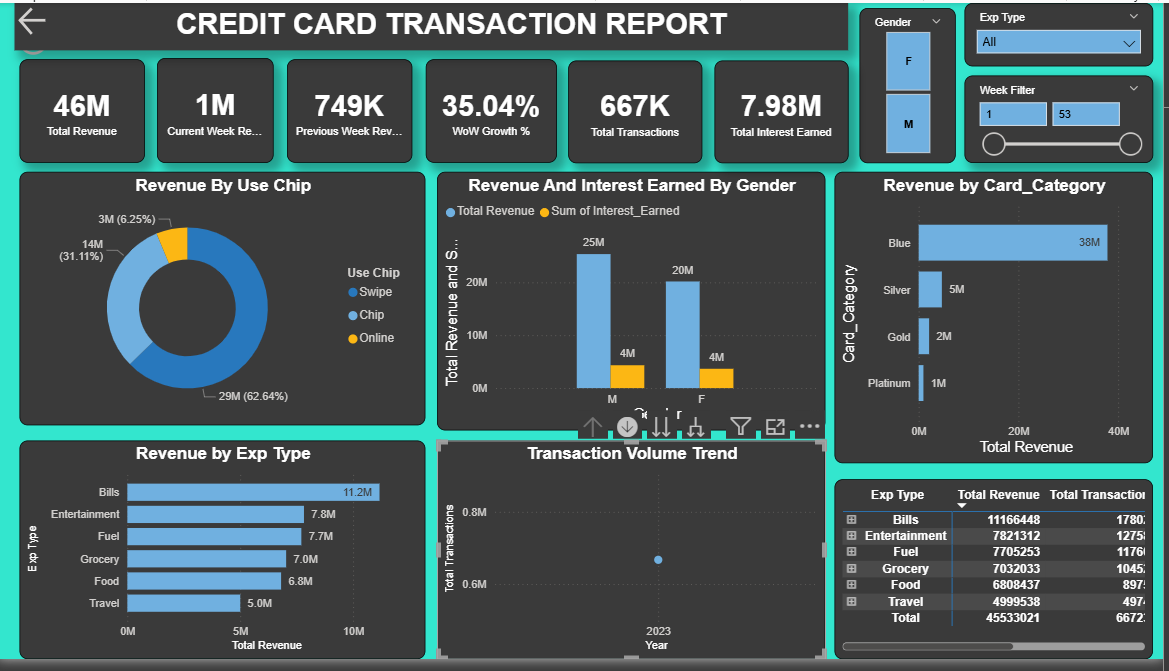

What the dashboard file says about the page in this screenshot:
{"tool":"powerbi","page":{"name":"Transaction report","canvas":[1280,720],"ordinal":1},"visuals":[{"type":"card","fields":{"Values":["CreditCard.Total Revenue"]},"box":[24.7,61.7,137.2,113.9],"z":0},{"type":"card","fields":{"Values":["CreditCard.Current Week Revenue"]},"box":[175.6,60.4,127.6,115.3],"z":1000},{"type":"card","fields":{"Values":["CreditCard.Previous Week Revenue"]},"box":[318.4,61.7,137.2,113.9],"z":2000},{"type":"card","fields":{"Values":["CreditCard.WoW Growth %"]},"box":[470.7,61.7,144.1,113.9],"z":3000},{"type":"slicer","fields":{"Values":["CreditCard.Week_Start_Date"]},"box":[1062.1,63.1,207.2,122.1],"z":5000},{"type":"card","fields":{"Values":["CreditCard.Total Transactions"]},"box":[627.1,63.1,146.8,112.5],"z":6000},{"type":"actionButton","box":[18.5,20,51.3,41.3],"z":7000},{"type":"textbox","box":[19.2,0,915.3,52.1],"z":9000},{"type":"actionButton","box":[18.5,0,51.3,39.9],"z":10000},{"type":"clusteredBarChart","title":"Revenue by Exp Type","fields":{"Category":["CreditCard.Exp Type"],"Y":["CreditCard.Total Revenue"]},"box":[24.7,480.3,446,240.1],"z":11000},{"type":"clusteredColumnChart","title":" Revenue And Interest Earned By Gender","fields":{"Y":["CreditCard.Total Revenue","Sum(CreditCard.Interest_Earned)"],"Category":["customer.Gender"]},"box":[483,185.2,426.8,284],"z":12000},{"type":"lineChart","title":"Transaction Volume Trend","fields":{"Y":["CreditCard.Total Transactions"],"Category":["CreditCard.Week_Start_Date.Variation.Date Hierarchy.Year","CreditCard.Week_Start_Date.Variation.Date Hierarchy.Quarter","CreditCard.Week_Start_Date.Variation.Date Hierarchy.Month","CreditCard.Week Num"]},"box":[483,480.3,426.8,240.1],"z":13000},{"type":"slicer","fields":{"Values":["CreditCard.Exp Type"]},"box":[1062.1,0,207.2,60.4],"z":14000},{"type":"slicer","fields":{"Values":["customer.Gender"]},"box":[946.8,5.5,105.7,170.2],"z":15000},{"type":"donutChart","title":"Revenue By Use Chip","fields":{"Category":["CreditCard.Use Chip"],"Y":["CreditCard.Total Revenue"]},"box":[24.7,185.2,446,278.6],"z":16000},{"type":"card","fields":{"Values":["CreditCard.Total Interest Earned"]},"box":[787.7,63.1,146.8,112.5],"z":17000},{"type":"barChart","title":" Revenue by Card_Category","fields":{"Y":["CreditCard.Total Revenue"],"Category":["CreditCard.Card_Category"]},"box":[919.4,185.2,349.9,319.7],"z":18000},{"type":"pivotTable","fields":{"Rows":["CreditCard.Exp Type","CreditCard.Card_Category","CreditCard.Client_Num"],"Values":["CreditCard.Total Revenue","CreditCard.Total Transactions","CreditCard.Total Interest Earned"]},"box":[919.4,522.8,349.9,197.6],"z":19000}]}

Visuals, with their boxes in screenshot pixels (x1, y1, x2, y2), scaled from the page's 1280x720 canvas onto the 1169x671 screenshot:
card - CreditCard.Total Revenue: crop(23, 58, 148, 164)
card - CreditCard.Current Week Revenue: crop(160, 56, 277, 164)
card - CreditCard.Previous Week Revenue: crop(291, 58, 416, 164)
card - CreditCard.WoW Growth %: crop(430, 58, 561, 164)
slicer - CreditCard.Week_Start_Date: crop(970, 59, 1159, 173)
card - CreditCard.Total Transactions: crop(573, 59, 707, 164)
actionButton: crop(17, 19, 64, 57)
textbox: crop(18, 0, 853, 49)
actionButton: crop(17, 0, 64, 37)
"Revenue by Exp Type" clusteredBarChart: crop(23, 448, 430, 670)
" Revenue And Interest Earned By Gender" clusteredColumnChart: crop(441, 173, 831, 437)
"Transaction Volume Trend" lineChart: crop(441, 448, 831, 670)
slicer - CreditCard.Exp Type: crop(970, 0, 1159, 56)
slicer - customer.Gender: crop(865, 5, 961, 164)
"Revenue By Use Chip" donutChart: crop(23, 173, 430, 432)
card - CreditCard.Total Interest Earned: crop(719, 59, 853, 164)
" Revenue by Card_Category" barChart: crop(840, 173, 1159, 471)
pivotTable - CreditCard.Exp Type x CreditCard.Card_Category: crop(840, 487, 1159, 670)
